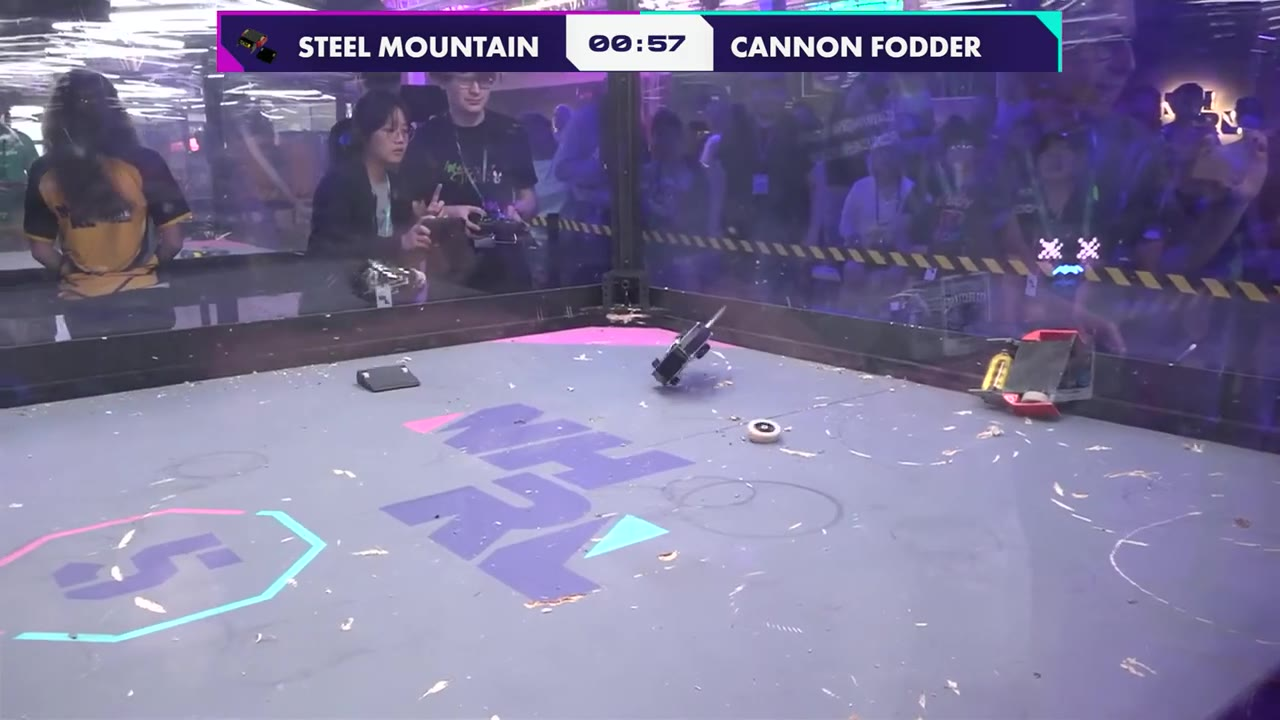combatbot: (975, 329, 1095, 420), (649, 308, 734, 394)
minibot: (356, 363, 422, 396)
wheel: (747, 417, 777, 444)
